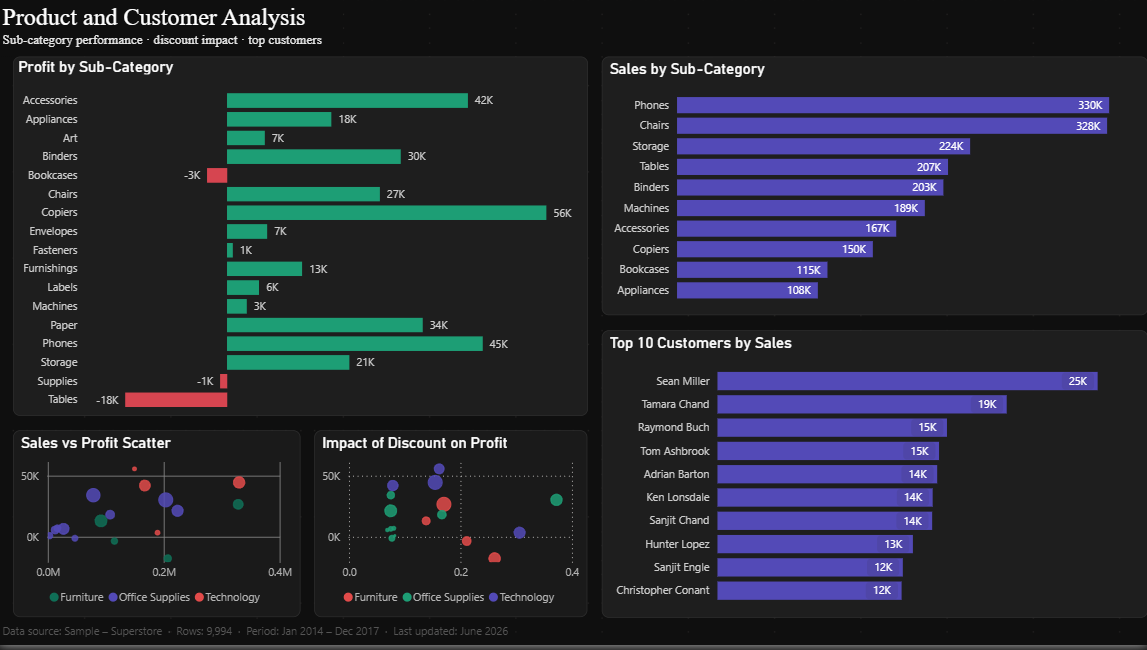

The dashboard page shown, as its layout file describes it:
{"tool":"powerbi","page":{"name":"Product and Customer Analysis ","canvas":[1280,720],"ordinal":1},"visuals":[{"type":"textbox","box":[0,688,608,32],"z":0},{"type":"textbox","box":[0,0,384,64],"z":1000},{"type":"clusteredBarChart","title":"Sales by Sub-Category","fields":{"Y":["Table1.Total Sales"],"Category":["Table1.Sub-Category"]},"box":[672,64,608,288],"z":2000},{"type":"clusteredBarChart","title":"Profit by Sub-Category","fields":{"Y":["Table1.Total Profit"],"Category":["Table1.Sub-Category"]},"box":[16,64,640,400],"z":3000},{"type":"clusteredBarChart","title":"Top 10 Customers by Sales","fields":{"Category":["Table1.Customer Name"],"Y":["Table1.Total Sales"]},"box":[672,368,608,320],"z":4000},{"type":"scatterChart","title":"Sales vs Profit Scatter","fields":{"Category":["Table1.Sub-Category"],"X":["Table1.Total Sales"],"Series":["Table1.Category"],"Y":["Table1.Total Profit"],"Size":["Table1.Total Orders"]},"box":[16,480,320,208],"z":4001},{"type":"scatterChart","title":"Impact of Discount on Profit","fields":{"Y":["Table1.Total Profit"],"Category":["Table1.Sub-Category"],"Series":["Table1.Category"],"Size":["Table1.Total Sales"],"X":["Avg(Table1.Discount)"]},"box":[352,480,304,208],"z":4002}]}

Visuals, with their boxes in screenshot pixels (x1, y1, x2, y2), scaled from the page's 1280x720 canvas onto the 1147x650 screenshot:
textbox: 0/621/545/649
textbox: 0/0/344/58
"Sales by Sub-Category" clusteredBarChart: 602/58/1146/318
"Profit by Sub-Category" clusteredBarChart: 14/58/588/419
"Top 10 Customers by Sales" clusteredBarChart: 602/332/1146/621
"Sales vs Profit Scatter" scatterChart: 14/433/301/621
"Impact of Discount on Profit" scatterChart: 315/433/588/621
